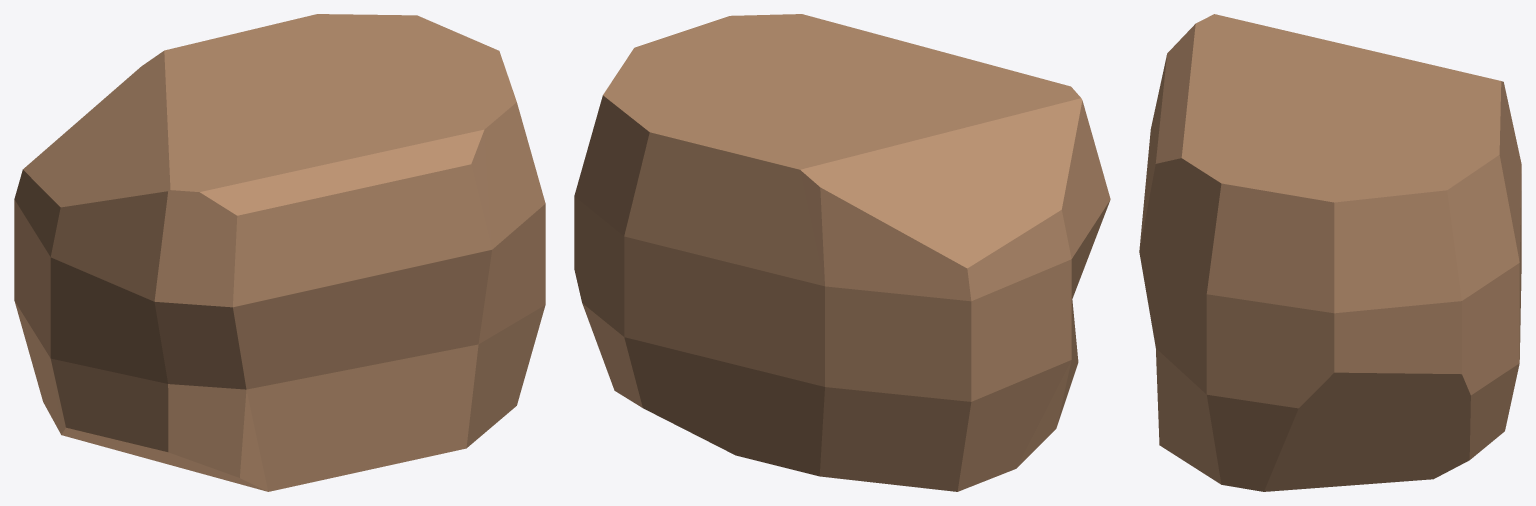
The model's file is Rock_Flat_l_05.fbx.
3 views of the same model, side by side, from view 1: azimuth 30°, elevation 25°; view 2: azimuth 150°, elevation 25°; view 3: azimuth 270°, elevation 25° (orthographic).
Parts seen in each view (by area): view 1: Rock_Flat_l_05; view 2: Rock_Flat_l_05; view 3: Rock_Flat_l_05.
Part boxes in pixels (bbox=[...]): Rock_Flat_l_05: bbox=[14, 14, 545, 491]; Rock_Flat_l_05: bbox=[574, 14, 1110, 491]; Rock_Flat_l_05: bbox=[1139, 14, 1521, 491].
Size of the model in its own units: 257 by 160 by 184.
